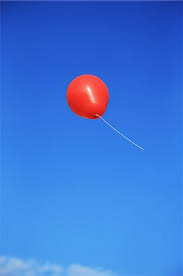Balloon: (67, 74, 109, 120)
